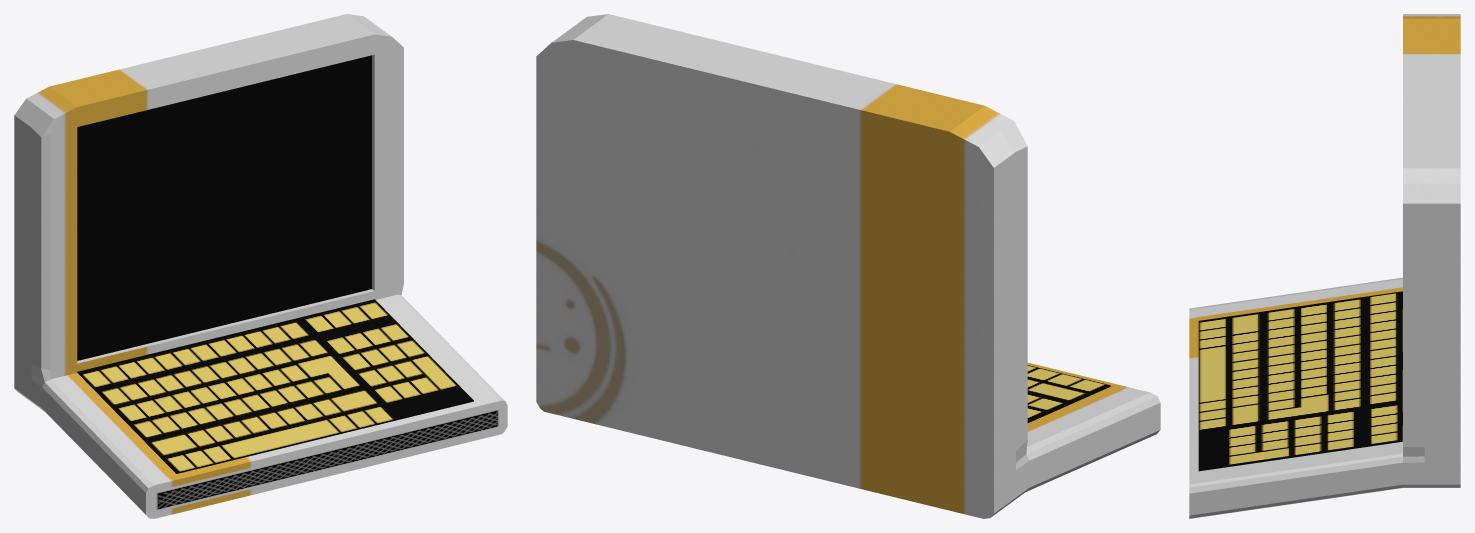
Rendered from devices.glb.
3 views of the same model, side by side, from view 1: azimuth 30°, elevation 25°; view 2: azimuth 150°, elevation 25°; view 3: azimuth 270°, elevation 25° (orthographic). The views are drawn at different scales.
Parts seen in each view (by area): view 1: Cube; view 2: Cube; view 3: Cube.
Part boxes in pixels (left/top/right/bottom): Cube: left=14, top=14, right=507, bottom=518; Cube: left=536, top=14, right=1160, bottom=518; Cube: left=1189, top=14, right=1460, bottom=518.
Size of the model in its own units: 1.65 by 1.44 by 1.04.
Materials: 2 (1 with a texture image).
